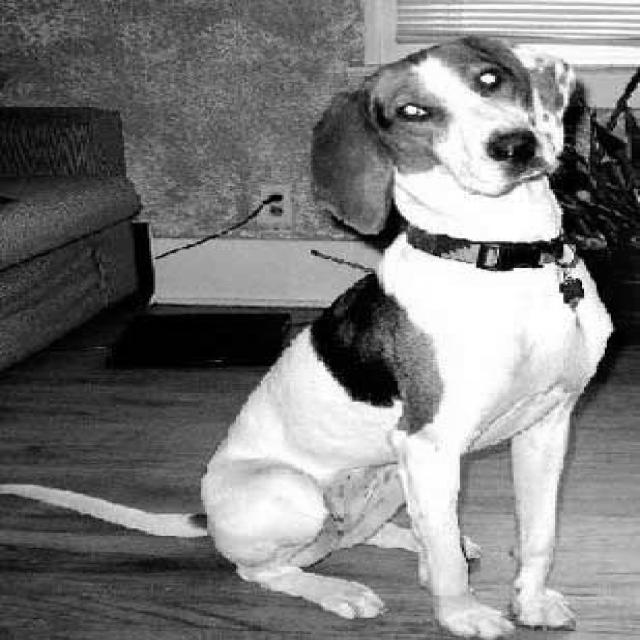sitting: (174, 27, 621, 640)
